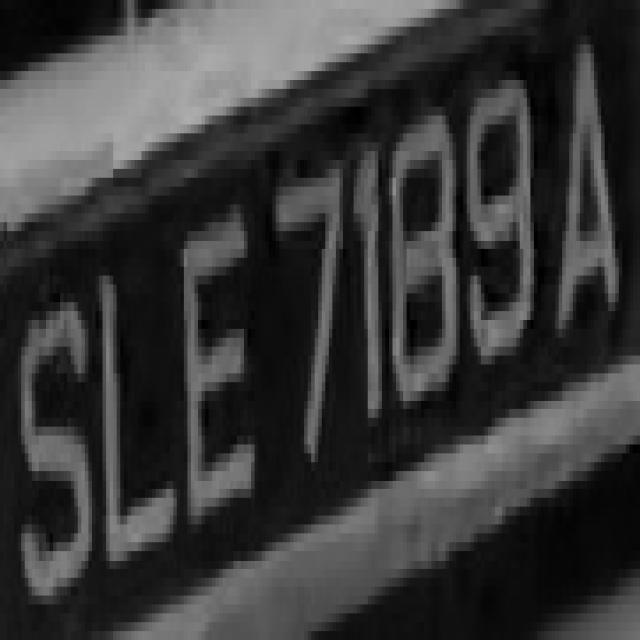1: (346, 107, 389, 489)
7: (258, 142, 350, 480)
8: (382, 98, 467, 418)
9: (449, 53, 545, 391)
A: (541, 18, 636, 382)
E: (170, 204, 254, 560)
L: (92, 266, 180, 586)
S: (14, 284, 92, 640)
